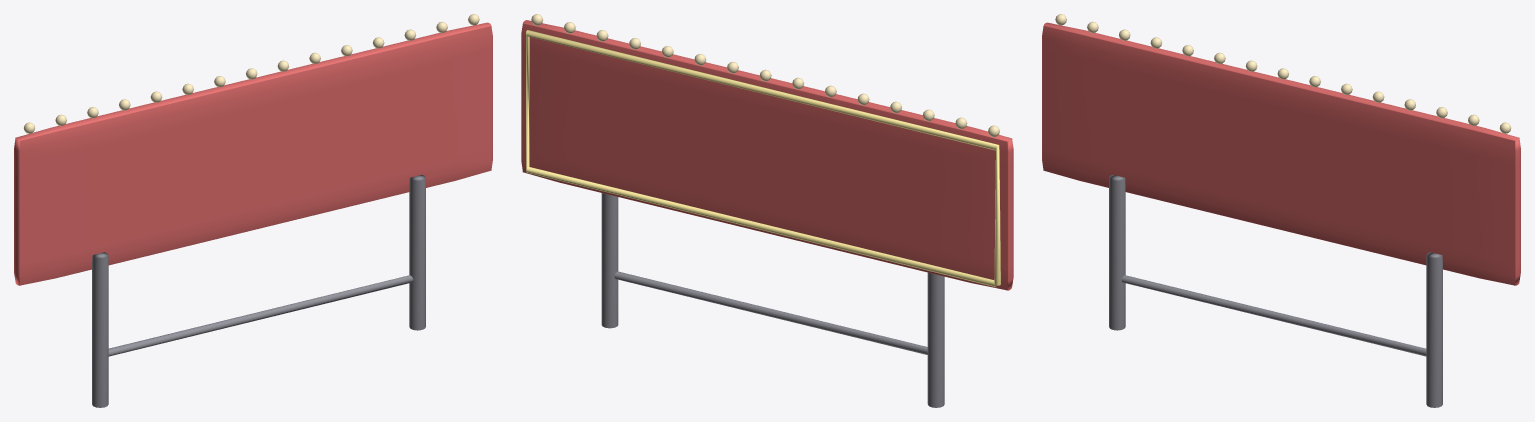
The model's file is EatsaPizzaSign.glb.
The picture shows the model from 3 angles, left to right: view 1: azimuth 30°, elevation 25°; view 2: azimuth 150°, elevation 25°; view 3: azimuth 330°, elevation 25°; orthographic projection. The views are drawn at different scales.
Parts seen in each view (by area): view 1: Board, Legs, Bulbs; view 2: Board, Neon, Legs, Bulbs; view 3: Board, Legs, Bulbs.
Part boxes in pixels (x1,y1,x2,y2): Board: [14, 22, 492, 285]; Legs: [92, 175, 425, 407]; Bulbs: [23, 14, 479, 133]; Board: [521, 20, 1013, 290]; Neon: [526, 30, 1000, 287]; Legs: [601, 193, 944, 407]; Bulbs: [531, 14, 999, 137]; Board: [1042, 22, 1520, 285]; Legs: [1109, 175, 1442, 407]; Bulbs: [1055, 14, 1511, 133].
Size of the model in its own units: 30 by 17.57 by 1.73.
